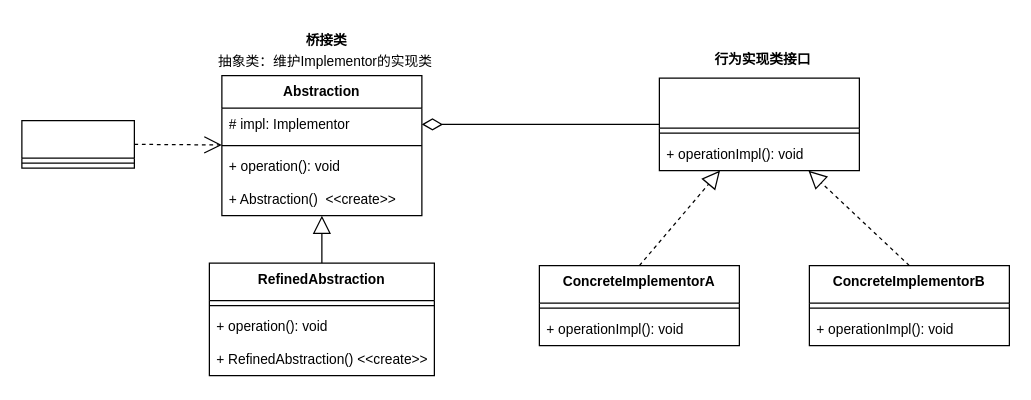
This 1031x400 diagram has some shape labels left out. The box of each missing label's shape, as (x1, y1, x2, y2) in pixels:
<<interface>> Implementor: (658, 77, 859, 171)
Client: (21, 119, 134, 168)
